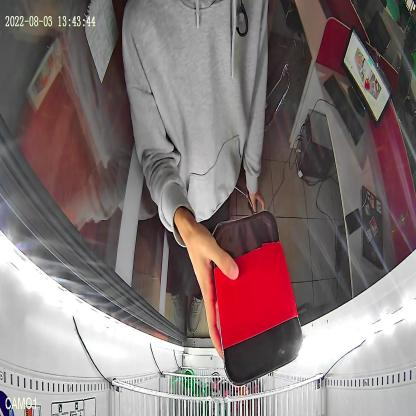red: (210, 210, 304, 386)
